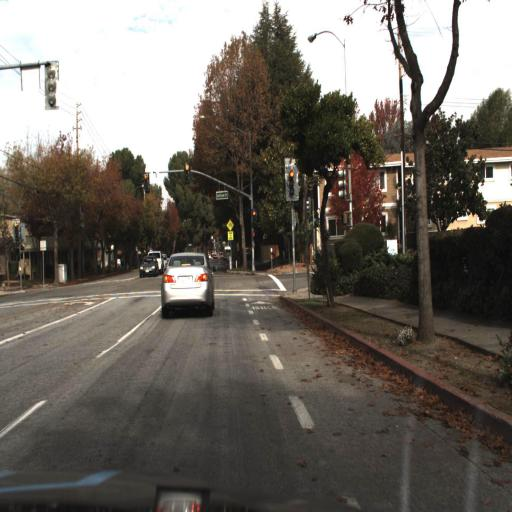car: (160, 252, 214, 320), (138, 256, 161, 277)
trafficLight-Red: (282, 154, 300, 206), (286, 164, 297, 200), (249, 199, 259, 224), (183, 159, 191, 189), (250, 206, 259, 227)
trafficLight-RedLeft: (10, 209, 24, 242), (141, 169, 151, 196)
